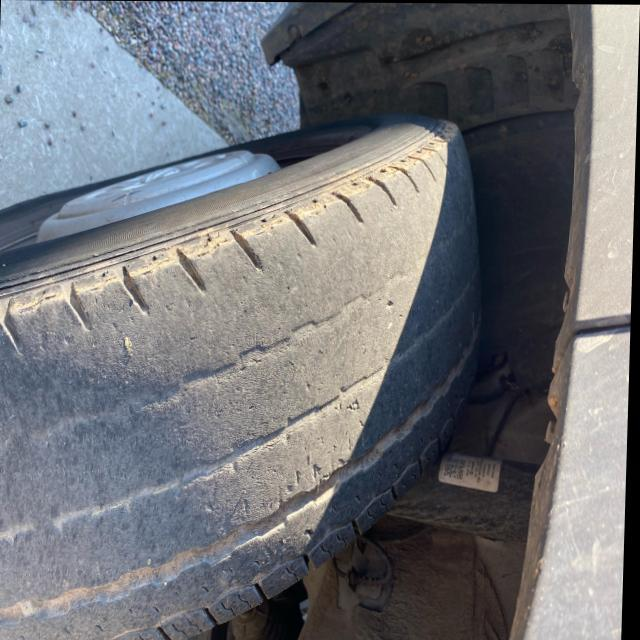Flat spots: (0, 126, 476, 609)
